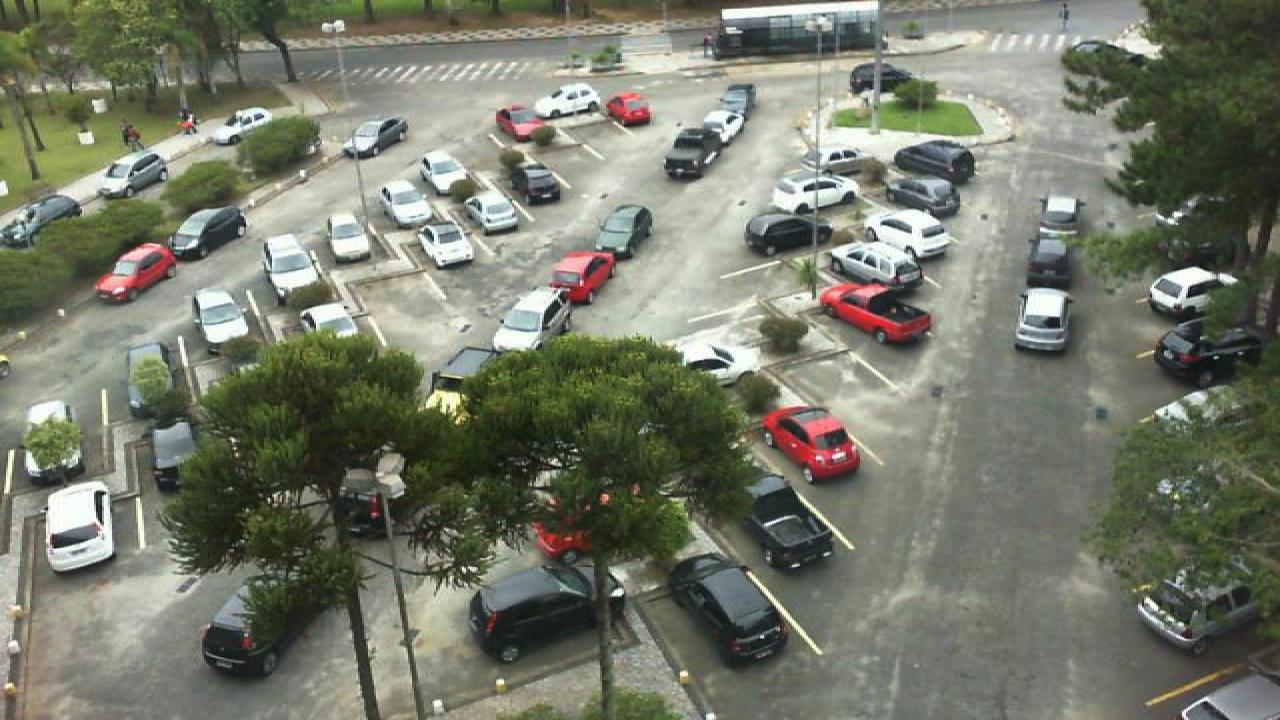Car: (464, 559, 626, 665), (666, 552, 794, 668), (1134, 567, 1280, 656), (198, 572, 314, 680), (742, 469, 838, 574), (760, 405, 864, 487), (1152, 316, 1266, 388), (816, 282, 936, 346), (42, 480, 118, 574), (20, 399, 86, 487), (90, 242, 178, 304), (492, 287, 574, 352), (122, 341, 186, 424), (1144, 264, 1234, 320), (674, 333, 764, 389), (826, 238, 924, 288), (862, 208, 956, 260), (332, 468, 398, 541), (166, 205, 250, 261), (0, 195, 84, 250), (742, 208, 836, 254), (146, 417, 202, 493), (1010, 286, 1074, 352), (546, 249, 618, 307), (190, 289, 252, 356), (768, 171, 862, 215), (890, 138, 978, 182), (882, 175, 962, 222), (260, 235, 320, 297), (592, 204, 654, 264), (426, 344, 500, 394), (662, 123, 726, 180), (96, 151, 170, 197), (296, 297, 362, 348), (338, 115, 414, 158), (414, 219, 478, 268), (1062, 39, 1154, 72), (376, 177, 436, 226), (202, 107, 276, 146), (530, 82, 602, 119), (1024, 234, 1074, 286), (324, 214, 376, 264), (464, 192, 522, 236), (418, 146, 472, 192), (508, 161, 562, 205), (492, 105, 550, 145), (1036, 194, 1084, 240), (846, 61, 912, 94), (806, 146, 870, 178), (602, 91, 654, 127), (698, 109, 748, 146), (716, 82, 758, 118)
